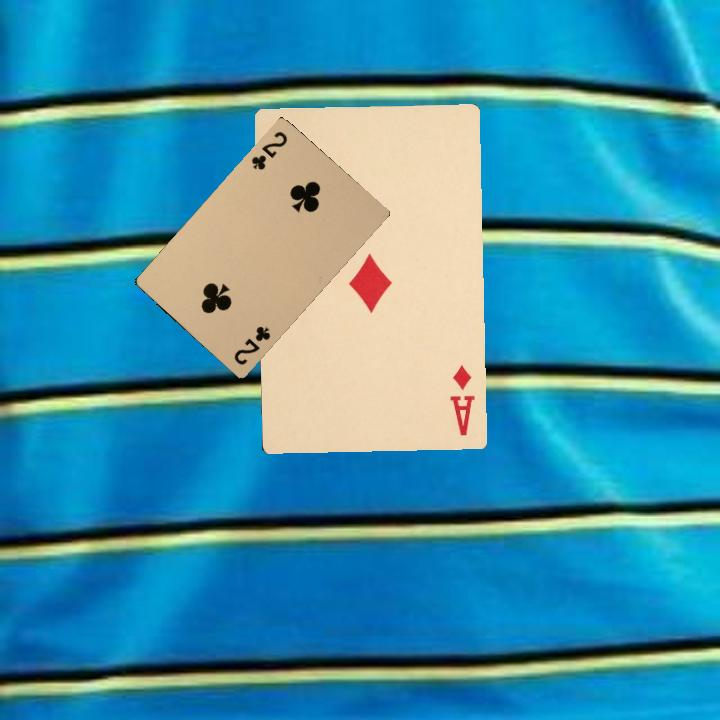2c: (230, 322, 273, 368), (247, 127, 290, 173)
Ad: (445, 361, 477, 439)
